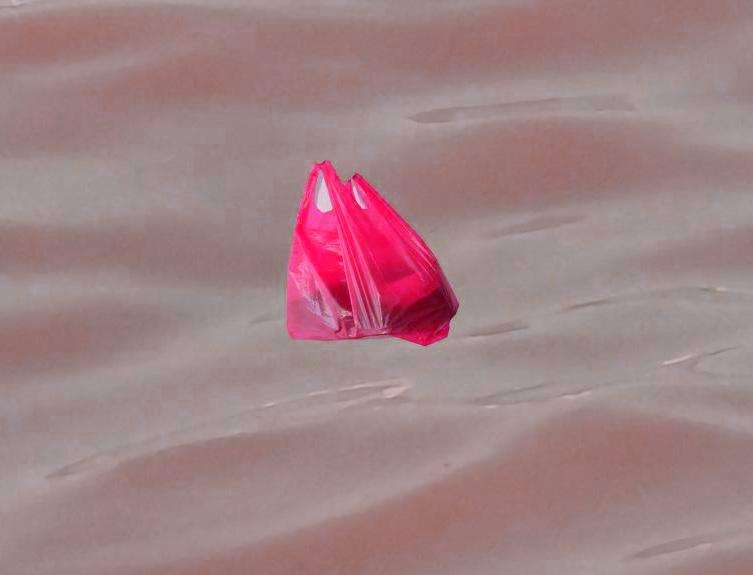Trash: (285, 159, 461, 347)
